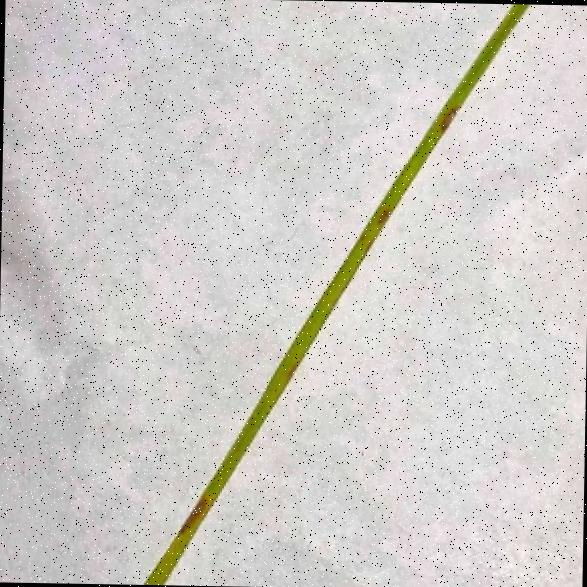Leaf_smut: (349, 90, 457, 246), (140, 475, 228, 582)
